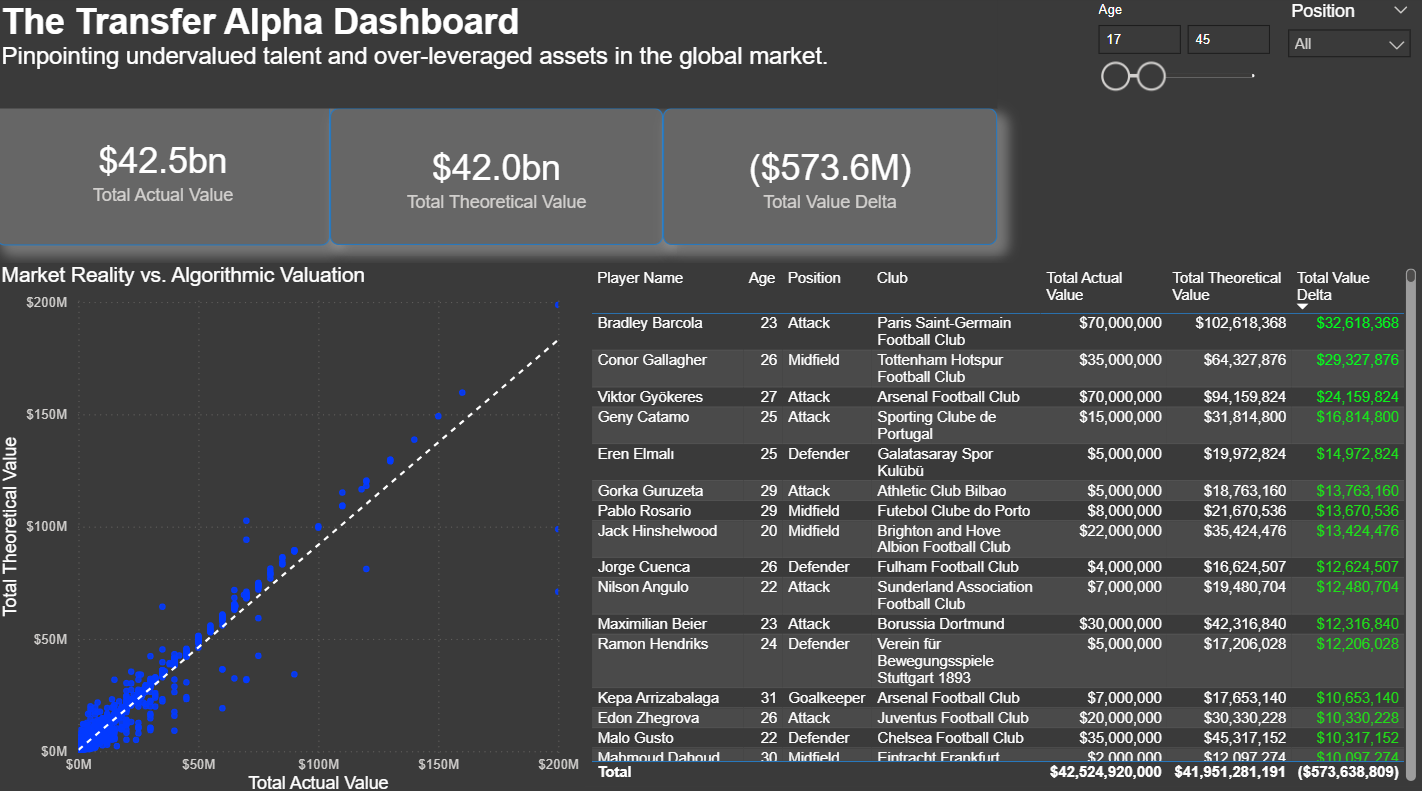

The page's visual inventory and layout, read from the dashboard file:
{"tool":"powerbi","page":{"name":"Page 1","canvas":[1280,720],"ordinal":0},"visuals":[{"type":"card","fields":{"Values":["public predicted_player_valuations.Total Actual Value"]},"box":[0,88,299.9,135.6],"z":0},{"type":"card","fields":{"Values":["public predicted_player_valuations.Total Theoretical Value"]},"box":[299.9,100.5,299,123],"z":1000},{"type":"card","fields":{"Values":["public predicted_player_valuations.Total Value Delta"]},"box":[598.8,100.5,299.9,123],"z":2000},{"type":"scatterChart","title":"Market Reality vs. Algorithmic Valuation","fields":{"Category":["public dim_player.player_name"],"X":["public predicted_player_valuations.Total Actual Value"],"Y":["public predicted_player_valuations.Total Theoretical Value"]},"box":[0,239.7,528.8,480.3],"z":3000},{"type":"tableEx","fields":{"Values":["public dim_player.player_name","public dim_player.Age","public dim_player.position","public dim_club.club_name","public predicted_player_valuations.Total Actual Value","public predicted_player_valuations.Total Theoretical Value","public predicted_player_valuations.Total Value Delta"]},"box":[528.8,239.7,751.4,469.5],"z":4000},{"type":"slicer","fields":{"Values":["public dim_player.position"]},"box":[1150.7,0,129.7,65.3],"z":5000},{"type":"textbox","box":[0,0,898.7,100.5],"z":6000},{"type":"slicer","fields":{"Values":["public dim_player.position"]},"box":[1150,0,130.2,88],"z":7000},{"type":"slicer","fields":{"Values":["public dim_player.Age"]},"box":[976.8,0,174.2,88],"z":8000}]}

Visuals, with their boxes in screenshot pixels (x1, y1, x2, y2), scaled from the page's 1280x720 canvas onto the 1422x791 screenshot:
card - public predicted_player_valuations.Total Actual Value: 0, 97, 333, 246
card - public predicted_player_valuations.Total Theoretical Value: 333, 110, 665, 246
card - public predicted_player_valuations.Total Value Delta: 665, 110, 998, 246
"Market Reality vs. Algorithmic Valuation" scatterChart: 0, 263, 587, 790
tableEx - public dim_player.player_name x public dim_player.Age: 587, 263, 1421, 779
slicer - public dim_player.position: 1278, 0, 1421, 72
textbox: 0, 0, 998, 110
slicer - public dim_player.position: 1278, 0, 1421, 97
slicer - public dim_player.Age: 1085, 0, 1279, 97
